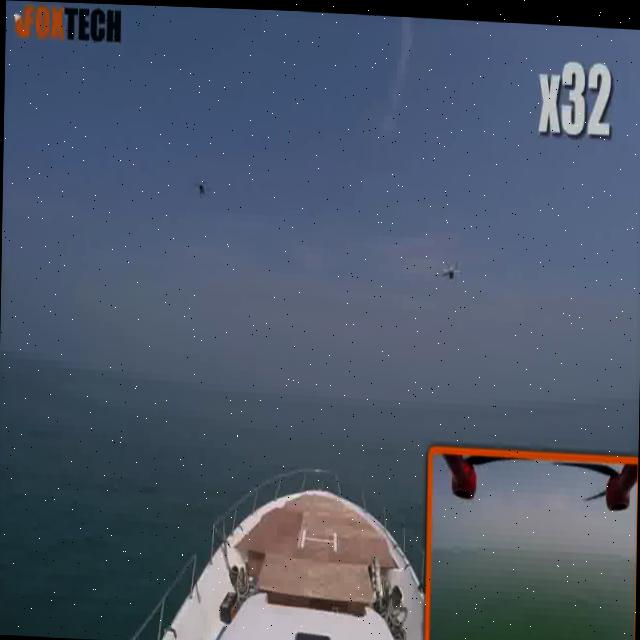drone: (185, 161, 219, 205), (438, 248, 460, 281)
